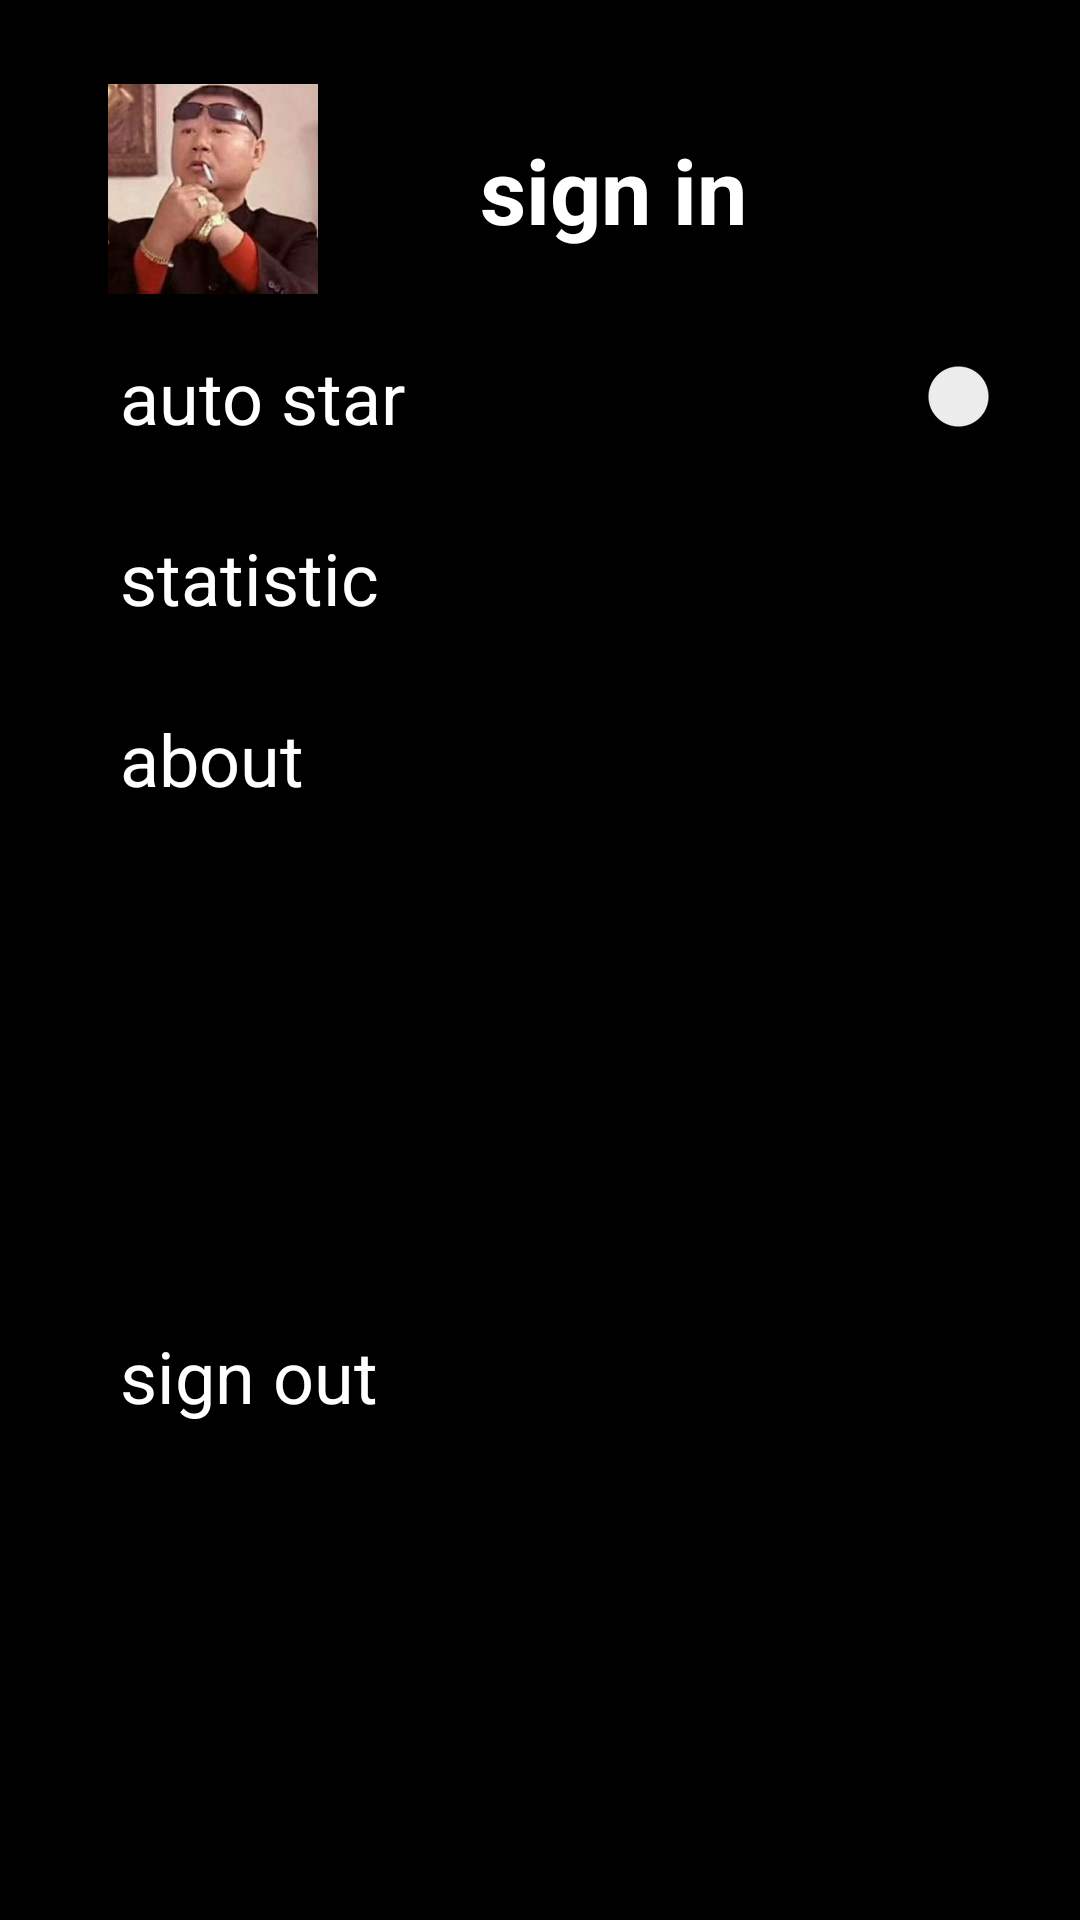

Locate icon controls on the screen. Image size 1080px x 1920px, boxes as (x1, y1, x2, y2).
avator: (108, 84, 318, 294)
